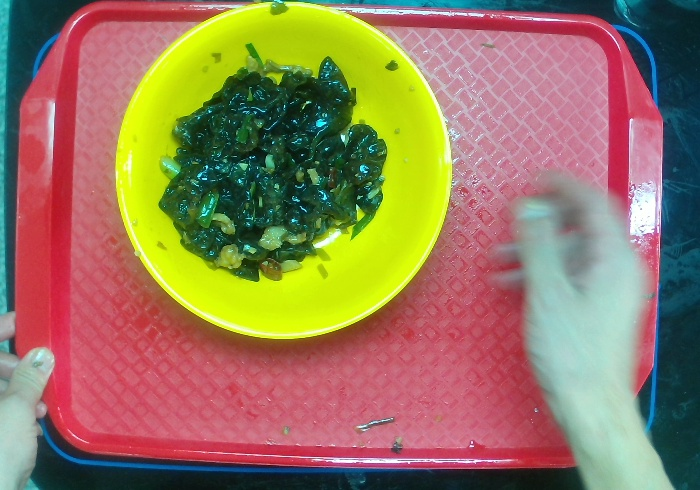YKMZ-Huang_Se_Tang_Wan: (112, 3, 457, 346)
